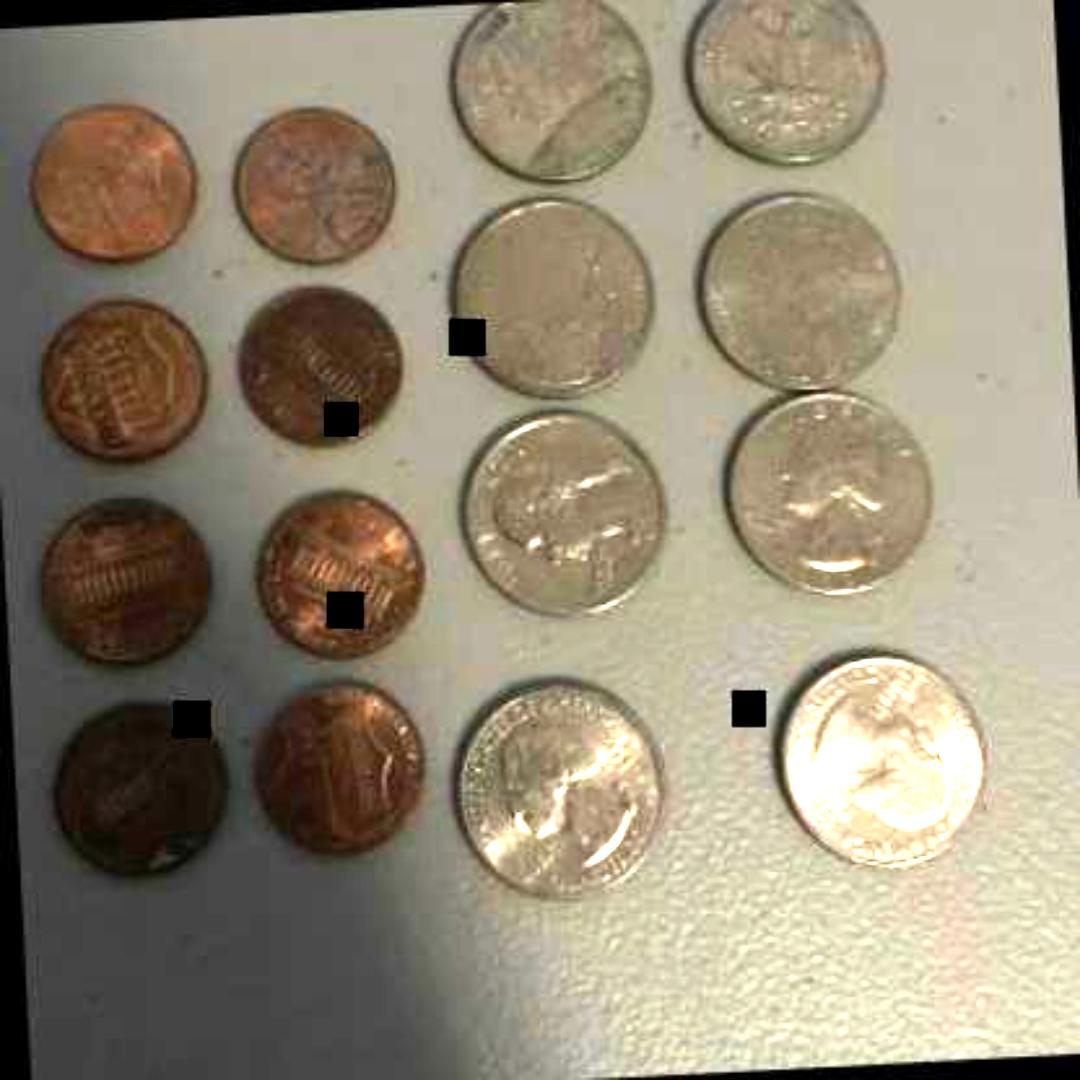Penny: (38, 689, 240, 886), (23, 484, 212, 676), (17, 287, 209, 473), (248, 479, 434, 668), (242, 674, 428, 862), (225, 280, 409, 454), (26, 92, 198, 272), (226, 105, 404, 268)
Quarter: (754, 643, 998, 881), (444, 667, 680, 911), (717, 389, 961, 607), (431, 188, 659, 412), (690, 180, 918, 396), (452, 401, 666, 629), (444, 0, 659, 182), (678, 0, 890, 176)
